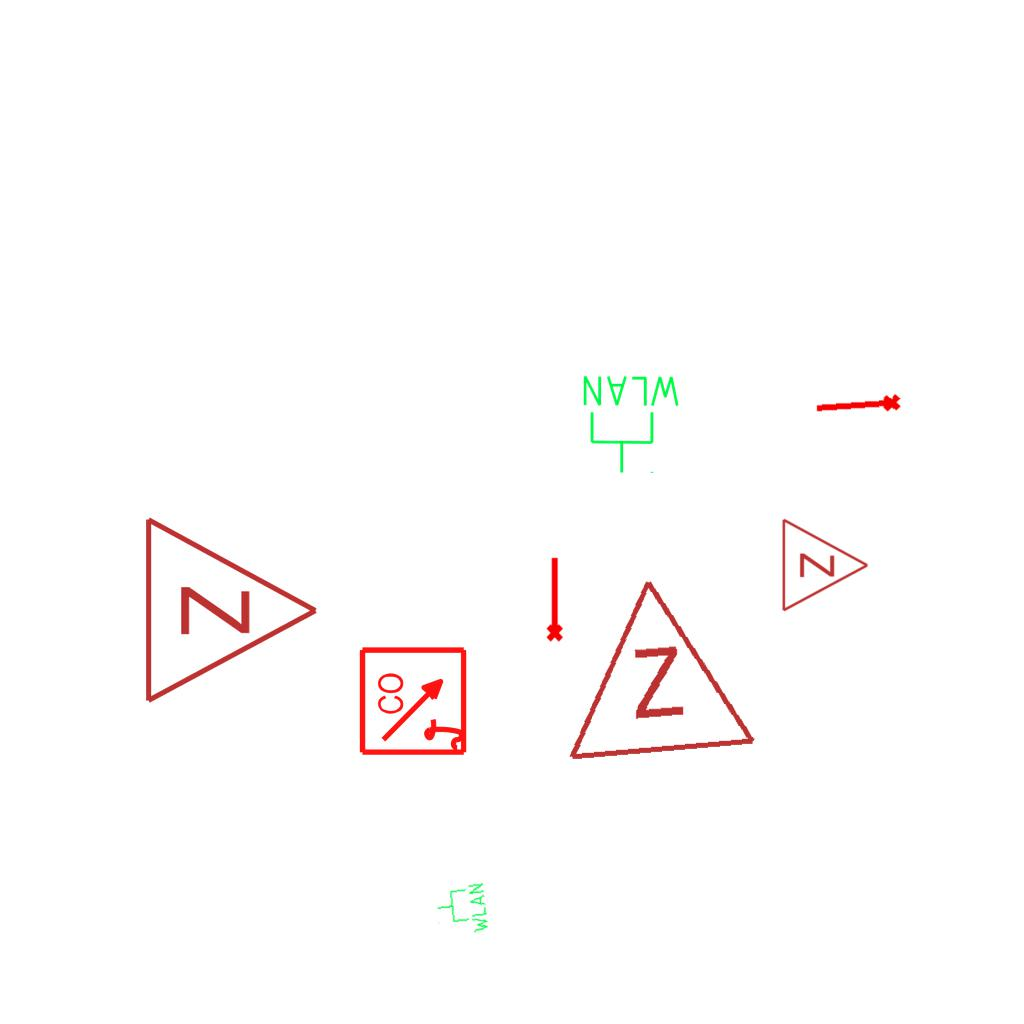ASR_Ansaugoeffnung: (813, 391, 903, 422), (542, 555, 565, 643)
ROA_Rauchmelder_optisch_mit_Signalgeber_(Sockelsirene): (358, 644, 471, 757)
WLAN: (579, 372, 684, 476), (433, 881, 491, 939)
Zimmersignalleuchte: (546, 558, 760, 776), (131, 510, 331, 706), (775, 515, 875, 613)
